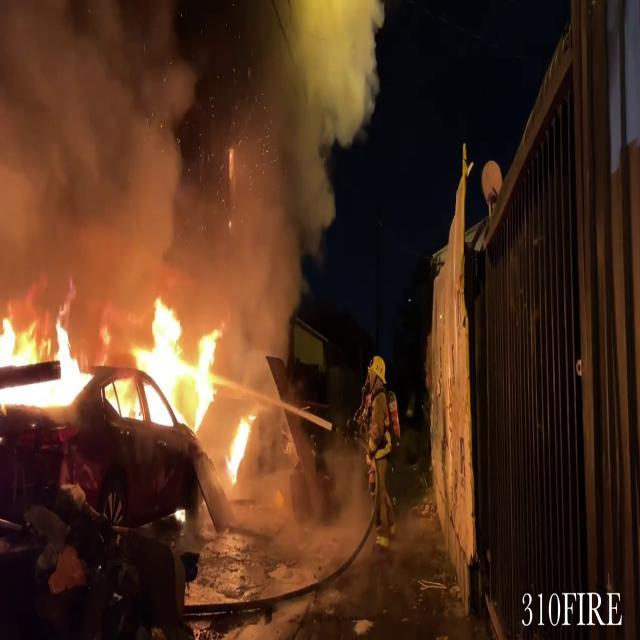Fire: (0, 287, 255, 481), (225, 411, 255, 483)
Smoke: (0, 0, 366, 335)
